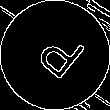P_SW: (24, 24, 86, 86)
